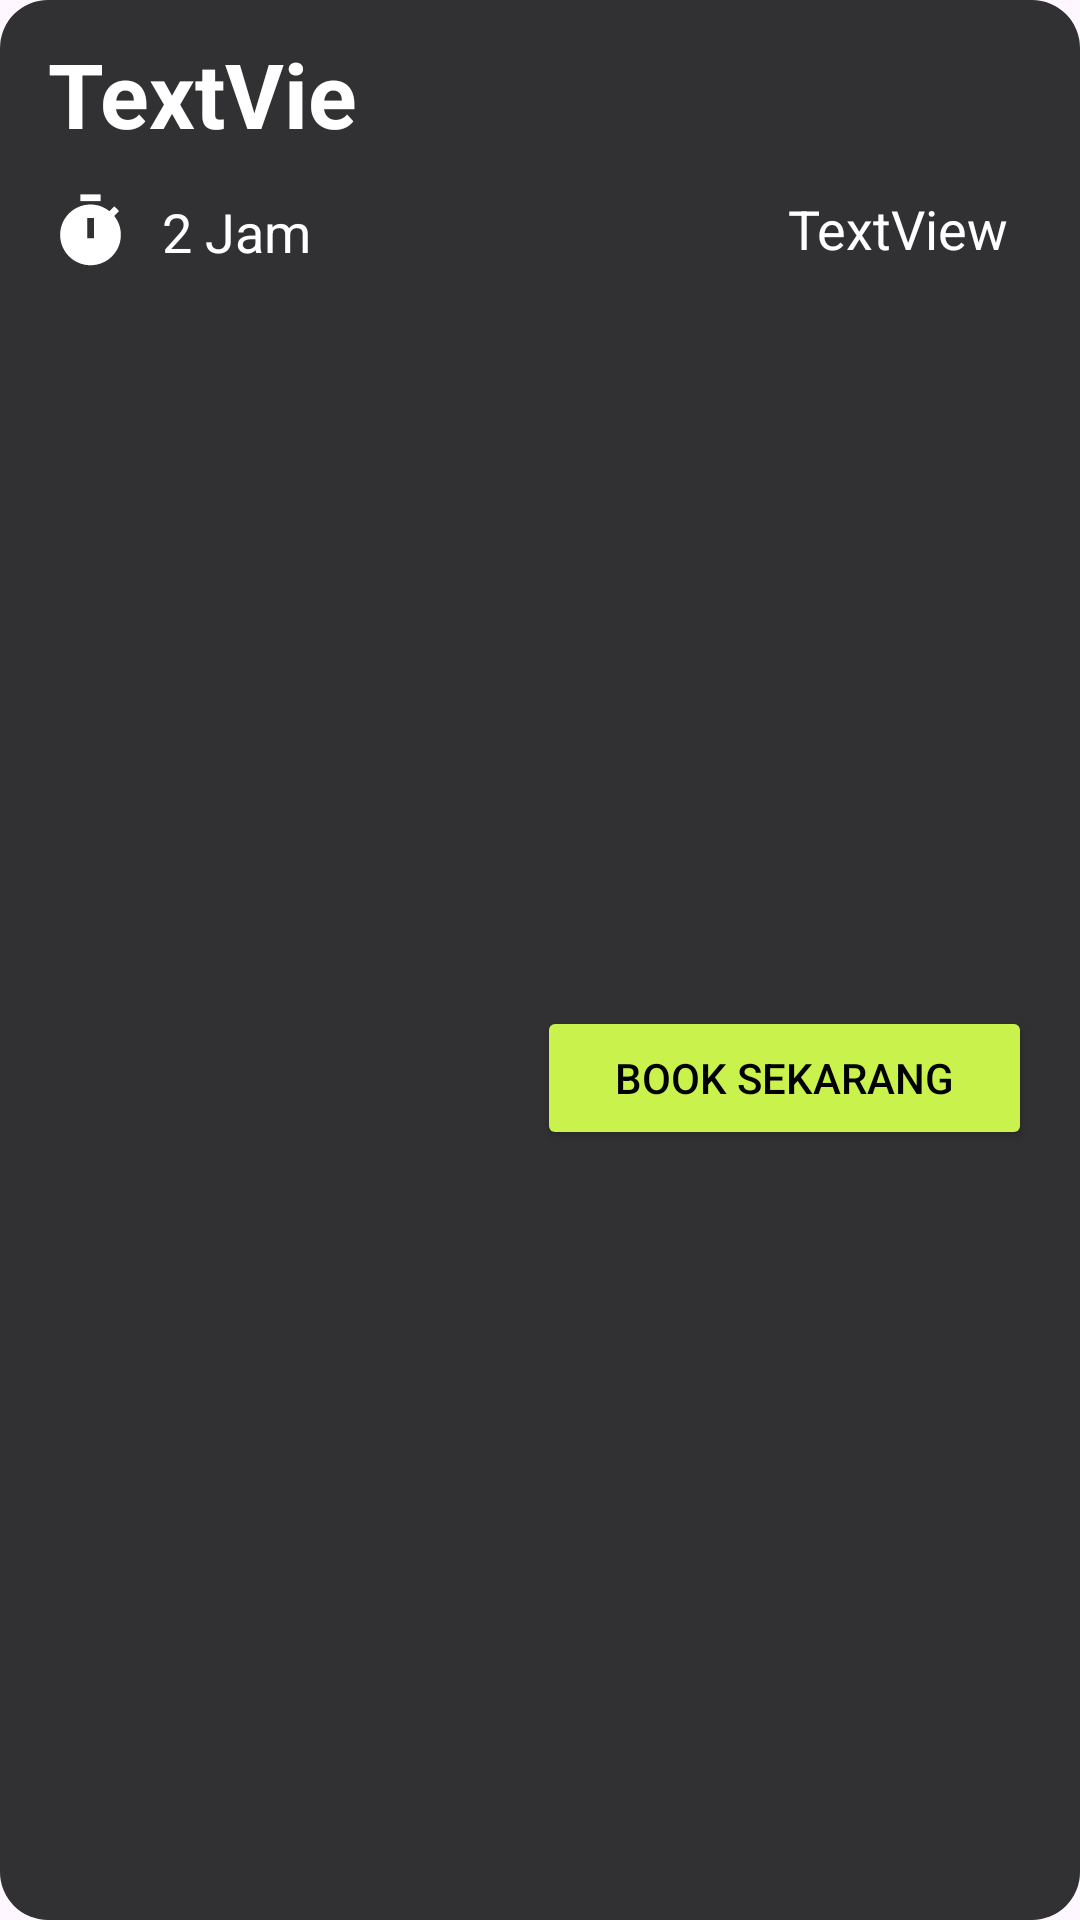

Screen size 1080w x 1920h. Icon name, then its center in pixels as (x=x, y=y):
duration: (x=90, y=230)
